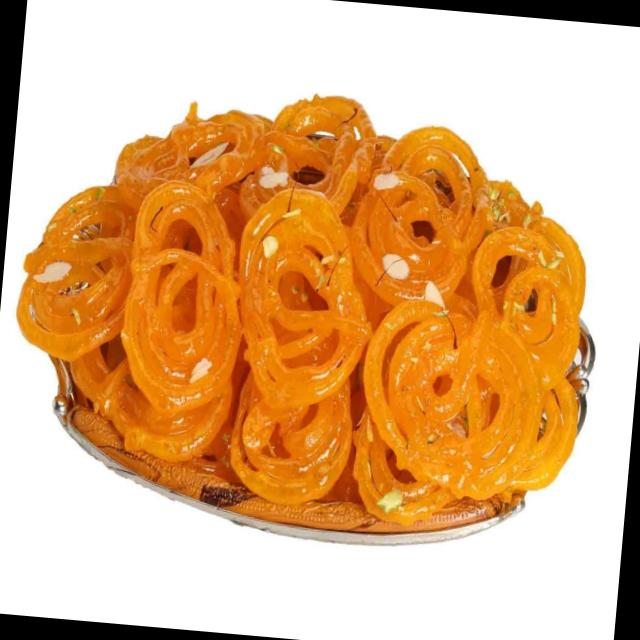jalebi: (24, 75, 606, 540)
